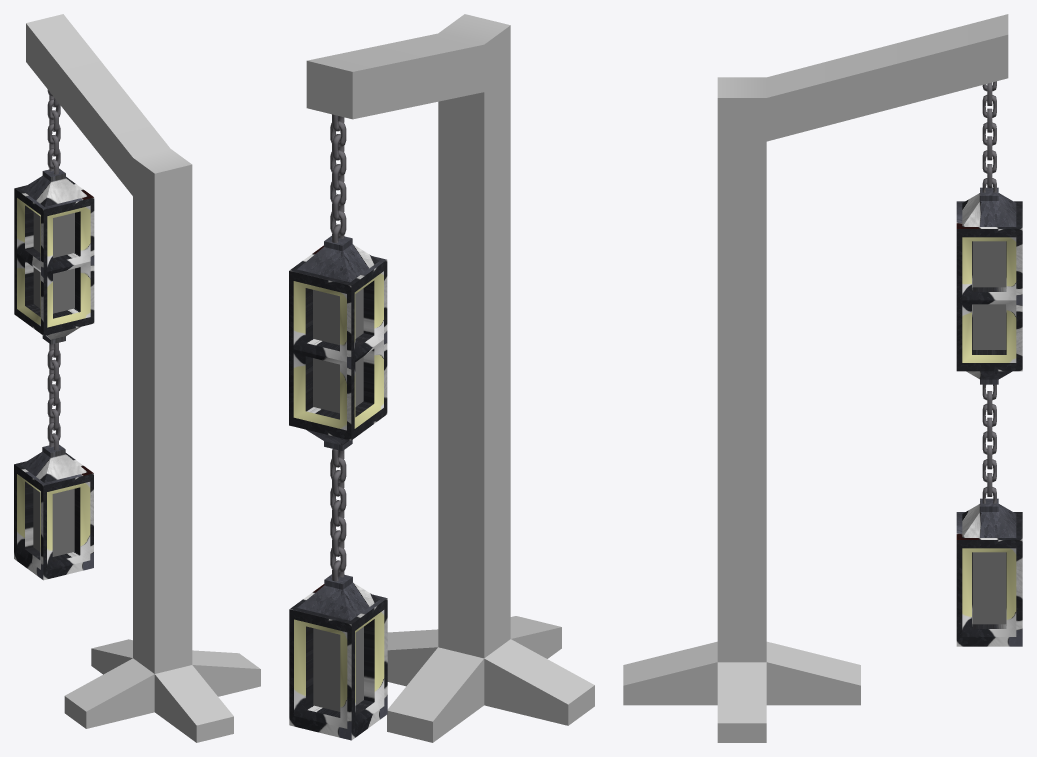
The model's file is Lantern_and_stand_2.obj.
3 views of the same model, side by side, from view 1: azimuth 30°, elevation 25°; view 2: azimuth 150°, elevation 25°; view 3: azimuth 270°, elevation 25° (orthographic). The views are drawn at different scales.
Visible parts, largest first — view 1: pCube29, pCube30, pCube40, pCube61, pCube60; view 2: pCube29, pCube30, pCube40, pCube61, pCube60; view 3: pCube29, pCube30, pCube40, pCube61, pCube60.
Part boxes in pixels (bbox=[...]): pCube29: bbox=[26, 14, 260, 742]; pCube30: bbox=[14, 168, 94, 344]; pCube40: bbox=[14, 444, 93, 580]; pCube61: bbox=[47, 342, 60, 450]; pCube60: bbox=[47, 89, 60, 174]; pCube29: bbox=[306, 14, 594, 742]; pCube30: bbox=[289, 236, 387, 450]; pCube40: bbox=[289, 574, 387, 740]; pCube61: bbox=[330, 449, 346, 581]; pCube60: bbox=[330, 114, 346, 243]; pCube29: bbox=[623, 14, 1008, 742]; pCube30: bbox=[956, 187, 1022, 384]; pCube40: bbox=[956, 498, 1022, 646]; pCube61: bbox=[982, 384, 996, 503]; pCube60: bbox=[982, 81, 996, 192].
Size of the model in its own units: 120 by 391 by 211.
